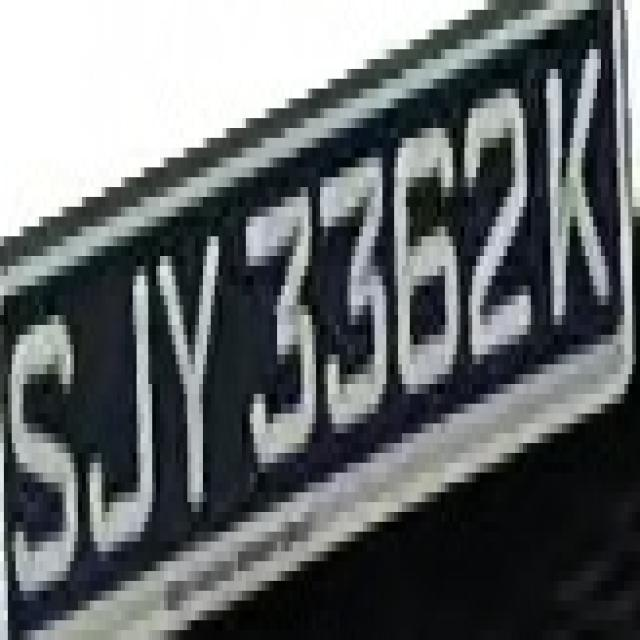2: (460, 69, 530, 404)
3: (230, 148, 320, 492), (304, 108, 390, 463)
6: (386, 99, 468, 424)
J: (78, 217, 160, 581)
K: (530, 20, 620, 325)
S: (4, 276, 86, 630)
Y: (140, 177, 227, 532)
